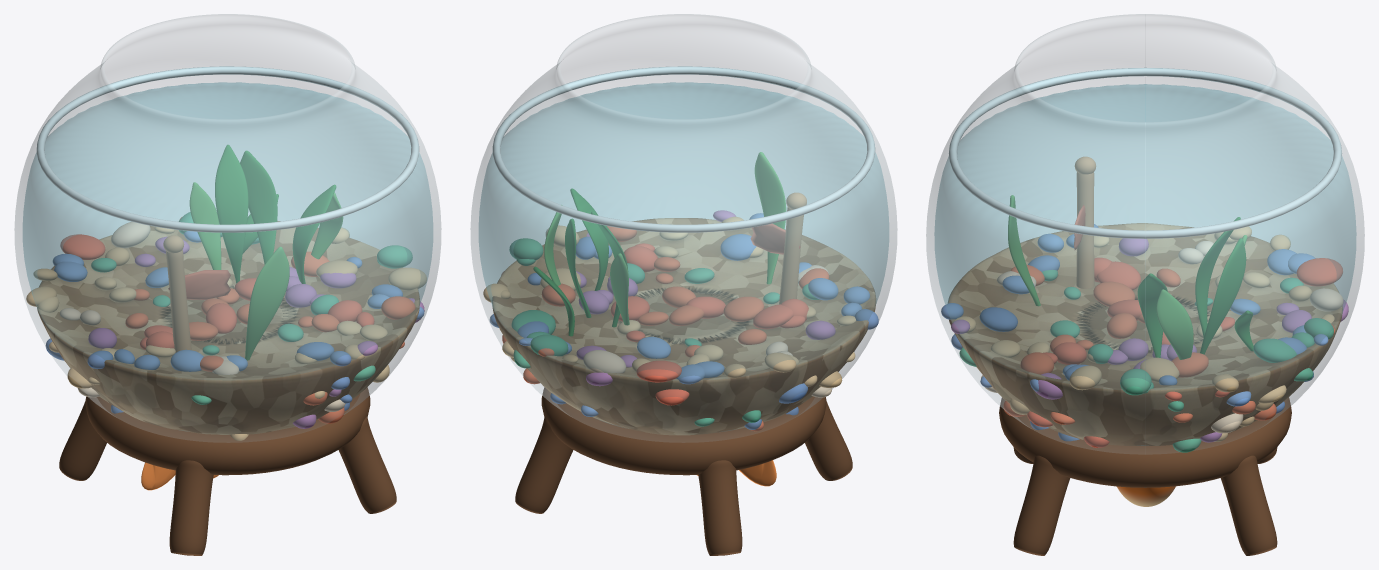
The model's file is bowl_fish.glb.
3 views of the same model, side by side, from view 1: azimuth 30°, elevation 25°; view 2: azimuth 150°, elevation 25°; view 3: azimuth 270°, elevation 25° (orthographic). The views are drawn at different scales.
Parts seen in each view (by area): view 1: ENV_bowl_glass, ENV_bowl_water, PRP_gravel, PRP_pebbles, PRP_stand, PRP_plants, ENV_waterline, PRP_memorial, HERO_fish_tail; view 2: ENV_bowl_glass, ENV_bowl_water, PRP_gravel, PRP_pebbles, PRP_stand, ENV_waterline, PRP_plants, PRP_memorial, HERO_fish_tail; view 3: ENV_bowl_glass, ENV_bowl_water, PRP_gravel, PRP_pebbles, PRP_stand, ENV_waterline, PRP_plants, PRP_memorial, HERO_fish_body.
Part boxes in pixels (x1,y1,x2,y2): ENV_bowl_glass: [14, 14, 441, 442]; ENV_bowl_water: [23, 82, 432, 380]; PRP_gravel: [37, 221, 419, 434]; PRP_pebbles: [26, 212, 426, 440]; PRP_stand: [59, 387, 396, 555]; PRP_plants: [189, 145, 343, 360]; ENV_waterline: [36, 66, 419, 232]; PRP_memorial: [163, 235, 230, 352]; HERO_fish_tail: [141, 462, 175, 490]; ENV_bowl_glass: [470, 14, 897, 442]; ENV_bowl_water: [479, 82, 888, 429]; PRP_gravel: [492, 218, 875, 435]; PRP_pebbles: [483, 210, 878, 431]; PRP_stand: [515, 387, 852, 555]; ENV_waterline: [492, 66, 875, 232]; PRP_plants: [533, 152, 786, 336]; PRP_memorial: [750, 192, 806, 304]; HERO_fish_tail: [739, 460, 776, 486]; ENV_bowl_glass: [926, 14, 1364, 454]; ENV_bowl_water: [934, 84, 1356, 445]; PRP_gravel: [948, 223, 1342, 445]; PRP_pebbles: [941, 224, 1348, 452]; PRP_stand: [999, 397, 1291, 555]; ENV_waterline: [948, 67, 1342, 238]; PRP_plants: [1008, 195, 1253, 359]; PRP_memorial: [1074, 156, 1095, 288]; HERO_fish_body: [1117, 486, 1175, 506].
Bounding box in the file's own units: 0.2306 × 0.2548 × 0.2306.
13 materials, 1 textured.
